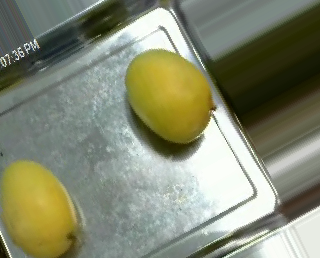Mango: (126, 47, 212, 144), (0, 159, 79, 258)
